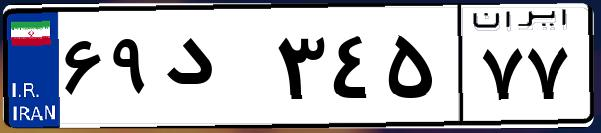3: (270, 28, 330, 110)
4: (330, 28, 385, 110)
5: (385, 28, 445, 110)
6: (57, 26, 110, 100)
7: (475, 38, 525, 113), (525, 38, 570, 115)
9: (110, 28, 158, 98)
د: (158, 20, 270, 120)
